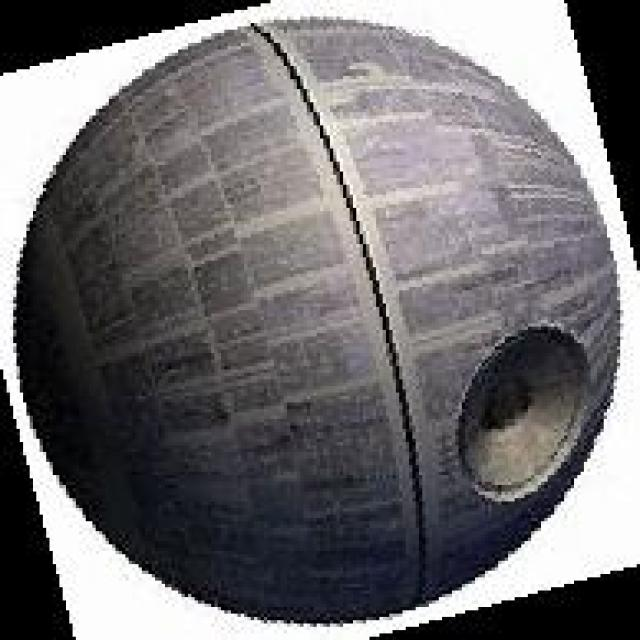Death Star: (18, 32, 623, 626)
